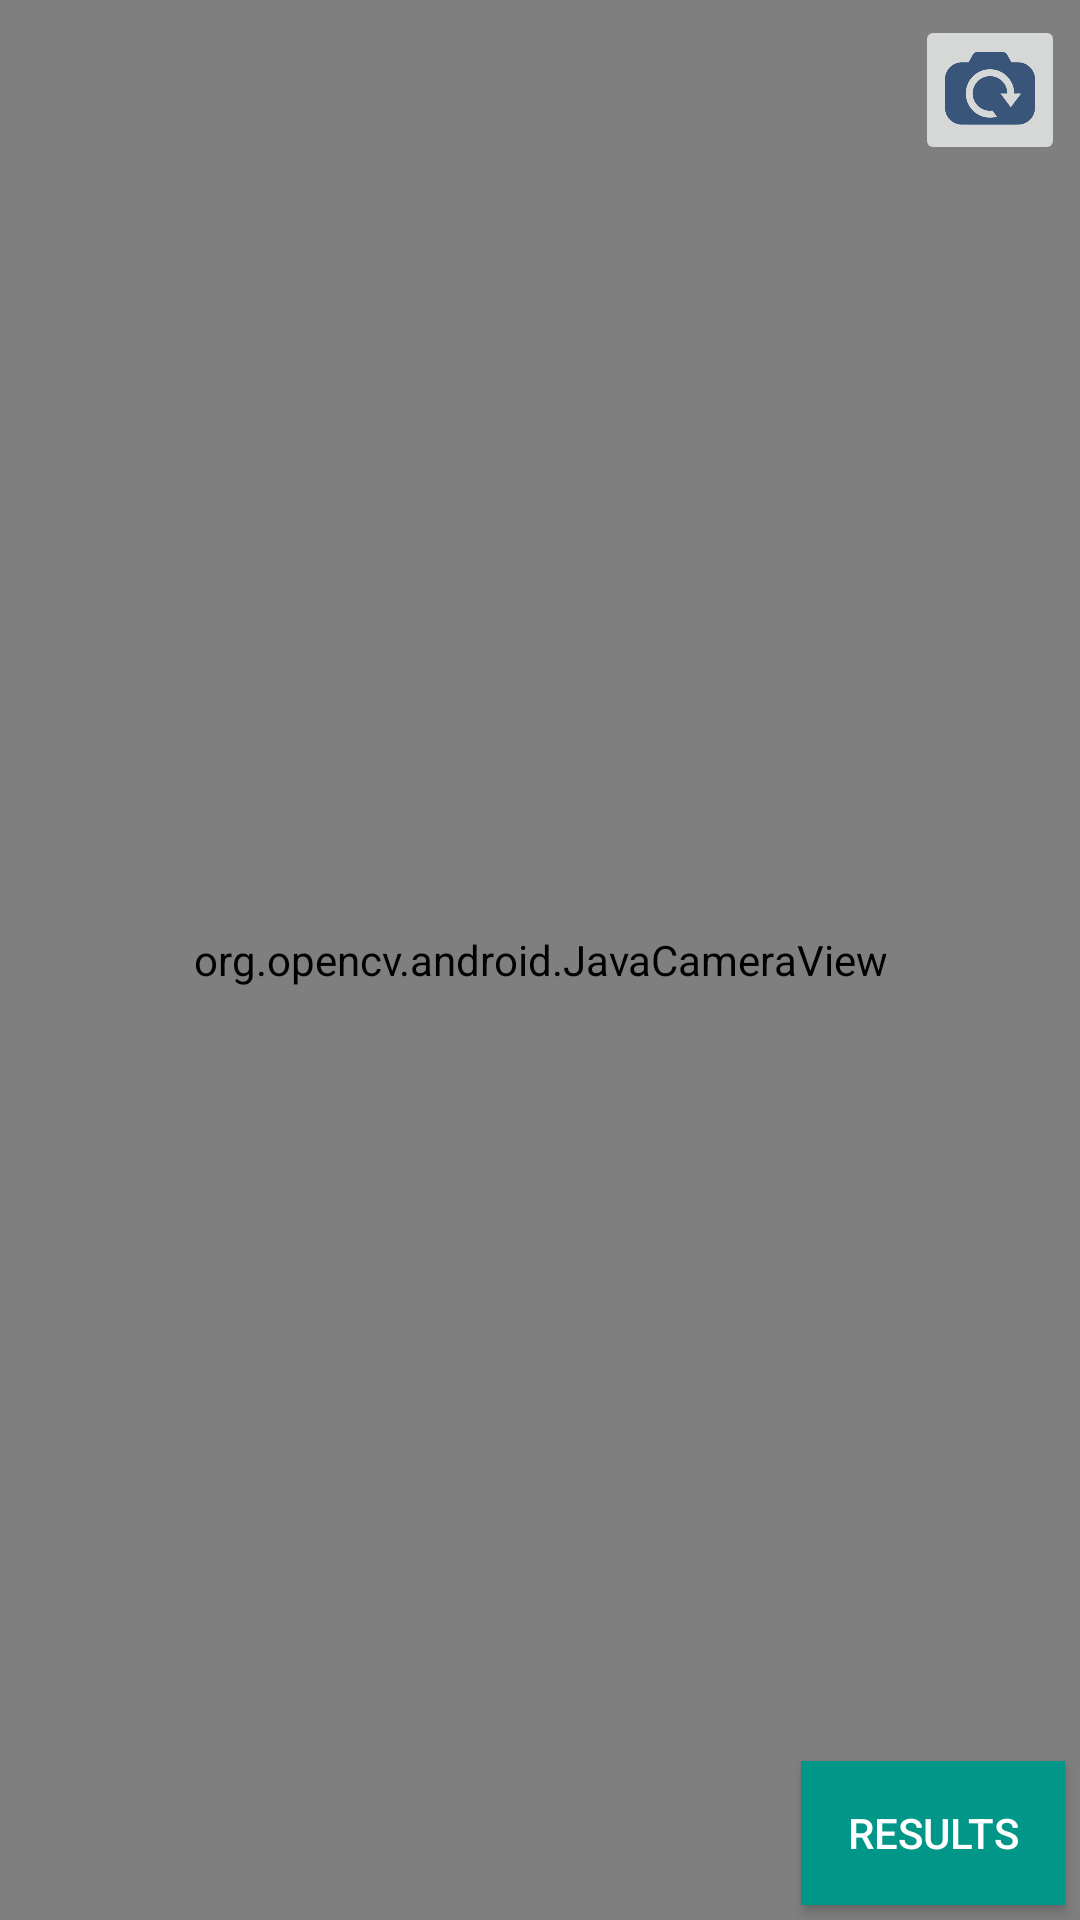

Icon bounding boxes for this 1080x1920 phone screenshot, format (x1, y1, x2, y2):
switchcamera: (927, 33, 1053, 147)
